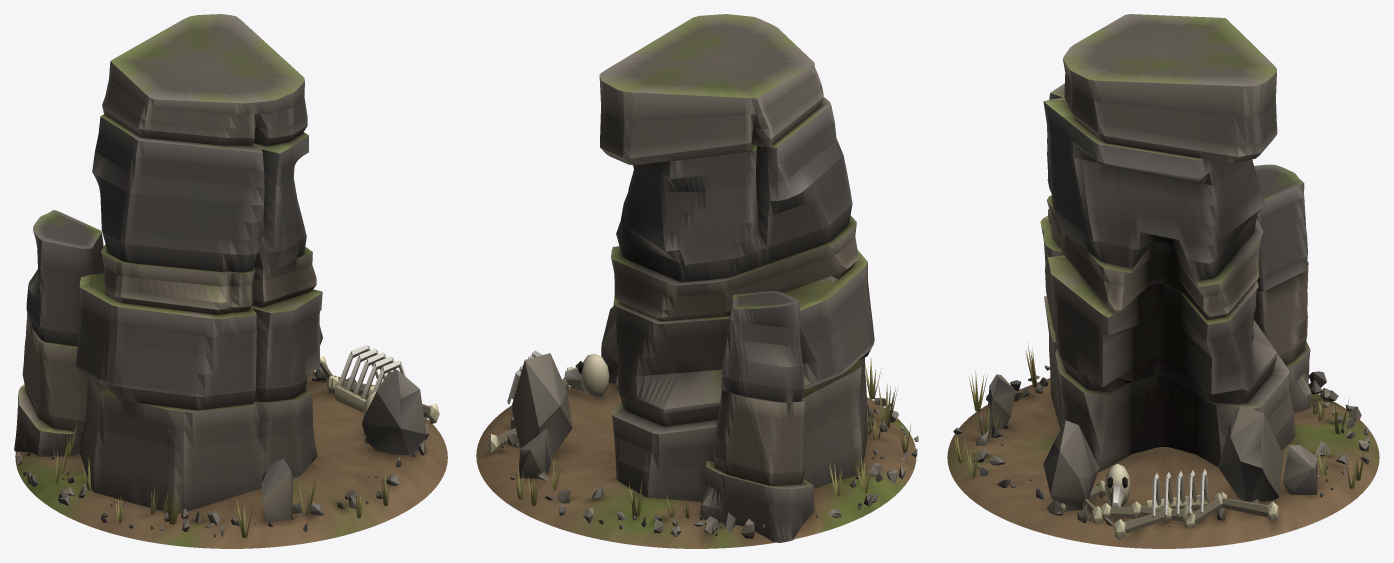
The model's file is beast-lair.glb.
3 renders of one model, left to right at view 1: azimuth 30°, elevation 25°; view 2: azimuth 150°, elevation 25°; view 3: azimuth 270°, elevation 25°, orthographic.
Visible parts, largest first — view 1: beast-lair; view 2: beast-lair; view 3: beast-lair.
Boxes of the visible parts, x1,y1,x2,y2 form: beast-lair: (14, 14, 447, 548); beast-lair: (476, 14, 918, 548); beast-lair: (947, 14, 1379, 548).
Size of the model in its own units: 0.9924 by 1 by 0.99.
